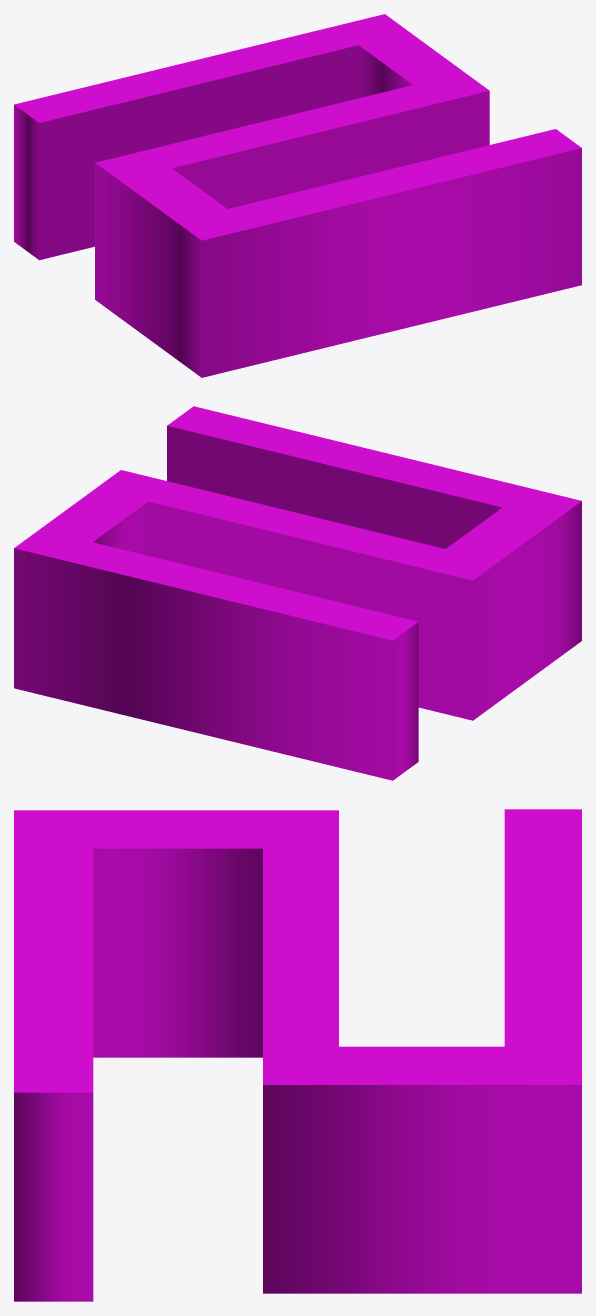
Rendered from eleventh block.fbx.
The picture shows the model from 3 angles, top to bottom: view 1: azimuth 30°, elevation 25°; view 2: azimuth 150°, elevation 25°; view 3: azimuth 270°, elevation 25°; orthographic projection. The views are drawn at different scales.
Visible parts, largest first — view 1: Text.011; view 2: Text.011; view 3: Text.011.
Part boxes in pixels (bbox=[...]): Text.011: bbox=[14, 14, 581, 377]; Text.011: bbox=[14, 406, 581, 780]; Text.011: bbox=[14, 809, 581, 1301].
Size of the model in its own units: 58.2 by 20 by 49.3.
